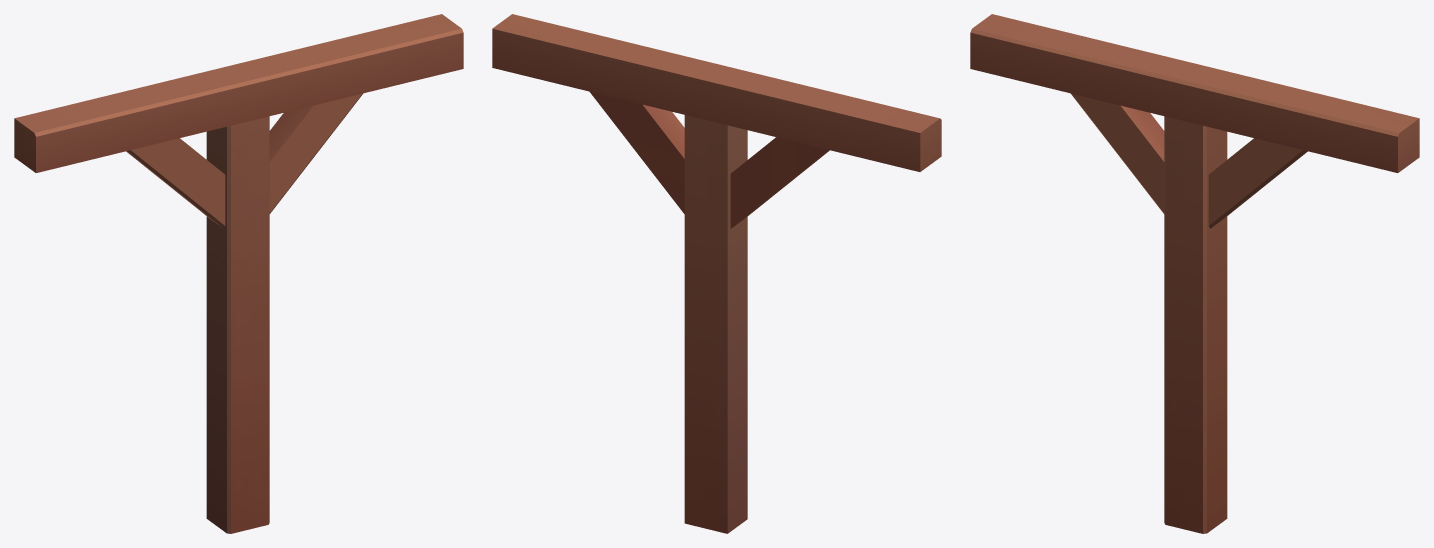
The model's file is scaffold_pillar_wall.glb.
3 views of the same model, side by side, from view 1: azimuth 30°, elevation 25°; view 2: azimuth 150°, elevation 25°; view 3: azimuth 330°, elevation 25° (orthographic).
Parts seen in each view (by area): view 1: scaffold_pillar_wall; view 2: scaffold_pillar_wall; view 3: scaffold_pillar_wall.
Boxes of the visible parts, box(x1,y1,x2,y2) form: scaffold_pillar_wall: box(14, 14, 463, 533); scaffold_pillar_wall: box(492, 14, 941, 533); scaffold_pillar_wall: box(970, 14, 1419, 533).
Bounding box in the file's own units: 4 × 4 × 0.3501.
Materials: 1 (1 with a texture image).
